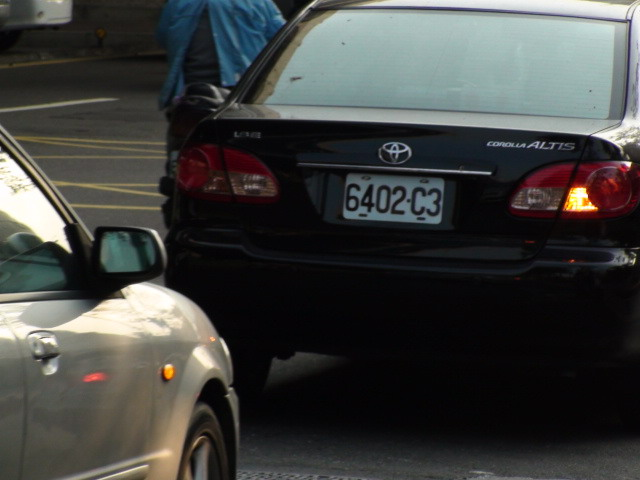plate: (345, 170, 447, 232)
